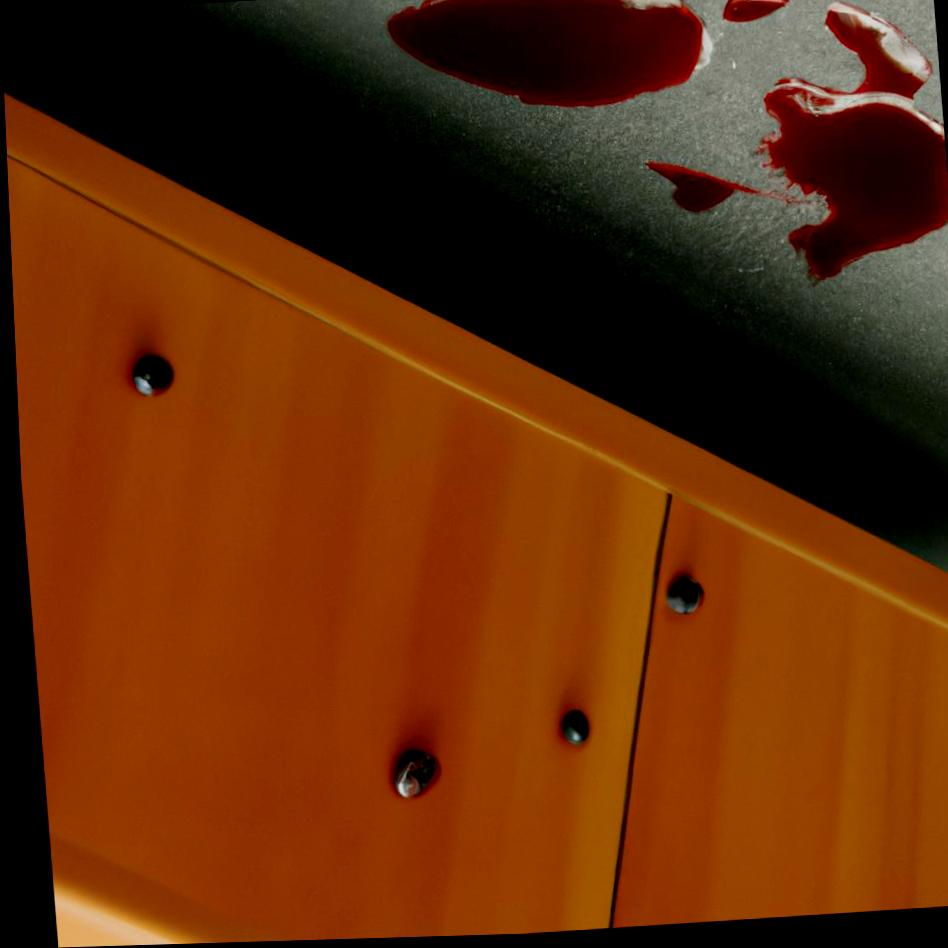Fire: (753, 8, 948, 293), (387, 0, 703, 112), (643, 166, 761, 218), (722, 0, 791, 29)
